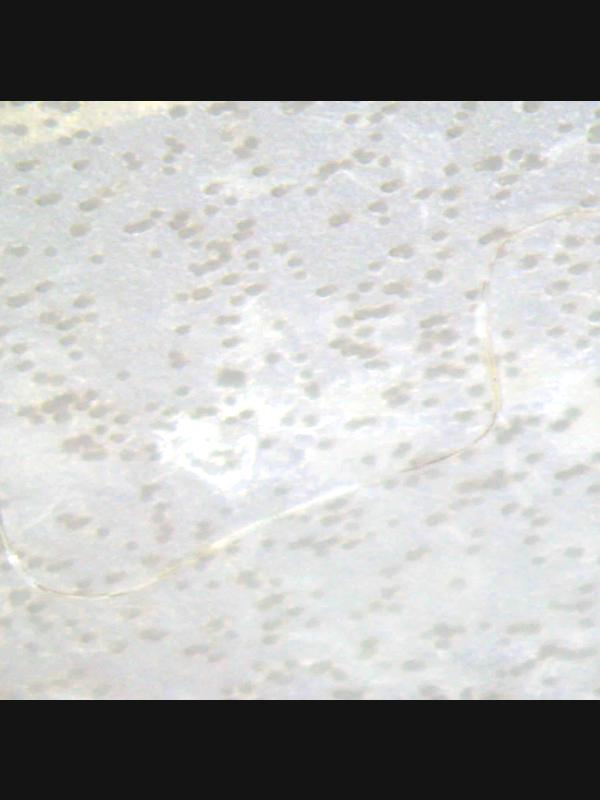microplastic: (0, 201, 600, 601)
